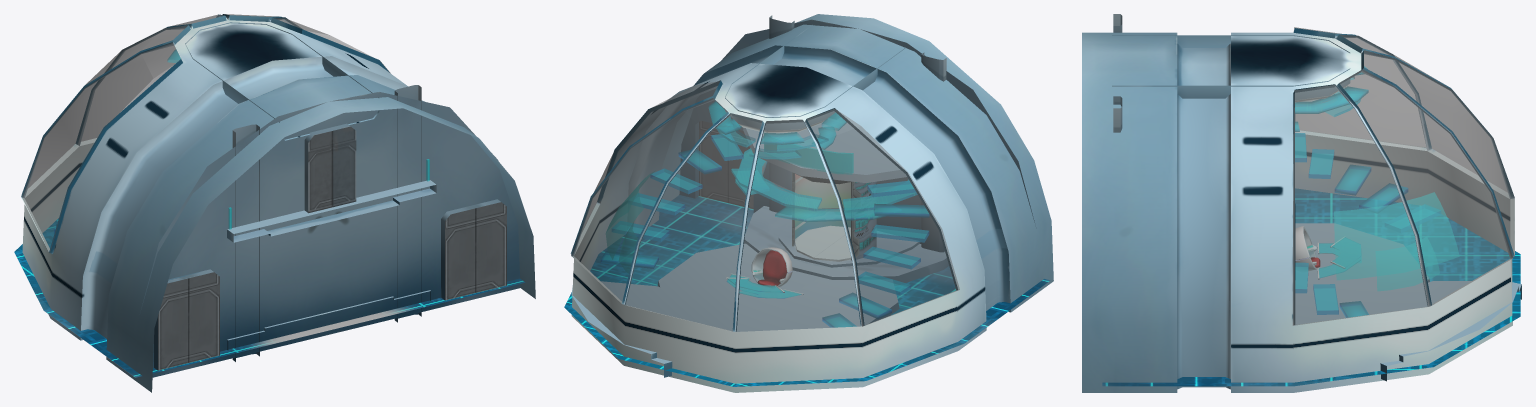
File: room.fbx
3 views of the same model, side by side, from view 1: azimuth 30°, elevation 25°; view 2: azimuth 150°, elevation 25°; view 3: azimuth 270°, elevation 25° (orthographic). The views are drawn at different scales.
Parts seen in each view (by area): view 1: back_wall2, side_wall1, polySurface60, window004, floor003, window002, polySurface55, pillar002, pillar001; view 2: side_wall1, window002, window004, polySurface60, window001, floor003, floor001, back_wall2, polySurface58, polySurface55, dressing_room001, floor002 (+25 smaller); view 3: side_wall1, polySurface59, window001, floor003, monitor2, window004, polySurface60, floor001, window002, floor002, up_effect009, monitor1 (+8 smaller).
Part boxes in pixels (x1,y1,x2,y2): back_wall2: (141, 92, 520, 377); side_wall1: (21, 14, 535, 392); polySurface60: (22, 43, 180, 253); window004: (81, 14, 223, 140); floor003: (14, 218, 525, 377); window002: (28, 25, 187, 187); polySurface55: (227, 180, 436, 242); pillar002: (232, 124, 259, 361); pillar001: (394, 85, 421, 322); side_wall1: (570, 14, 1053, 392); window002: (736, 119, 860, 331); window004: (625, 113, 762, 331); polySurface60: (807, 108, 959, 326); window001: (571, 98, 727, 303); floor003: (564, 195, 1050, 386); floor001: (657, 243, 899, 331); back_wall2: (679, 19, 1034, 243); polySurface58: (744, 206, 948, 282); polySurface55: (743, 121, 906, 182); dressing_room001: (792, 172, 876, 260); floor002: (571, 281, 707, 377); side_wall1: (1082, 28, 1514, 392); polySurface59: (1292, 85, 1430, 325); window001: (1339, 69, 1512, 305); floor003: (1102, 188, 1520, 386); monitor2: (1334, 192, 1458, 279); window004: (1364, 50, 1514, 254); polySurface60: (1294, 27, 1426, 147); floor001: (1295, 223, 1429, 324); window002: (1340, 34, 1507, 191); floor002: (1365, 281, 1521, 381); up_effect009: (1295, 86, 1368, 113); monitor1: (1377, 264, 1439, 290).
Size of the model in its own units: 1167 by 667 by 1074.
Materials: 4 (4 with a texture image).
